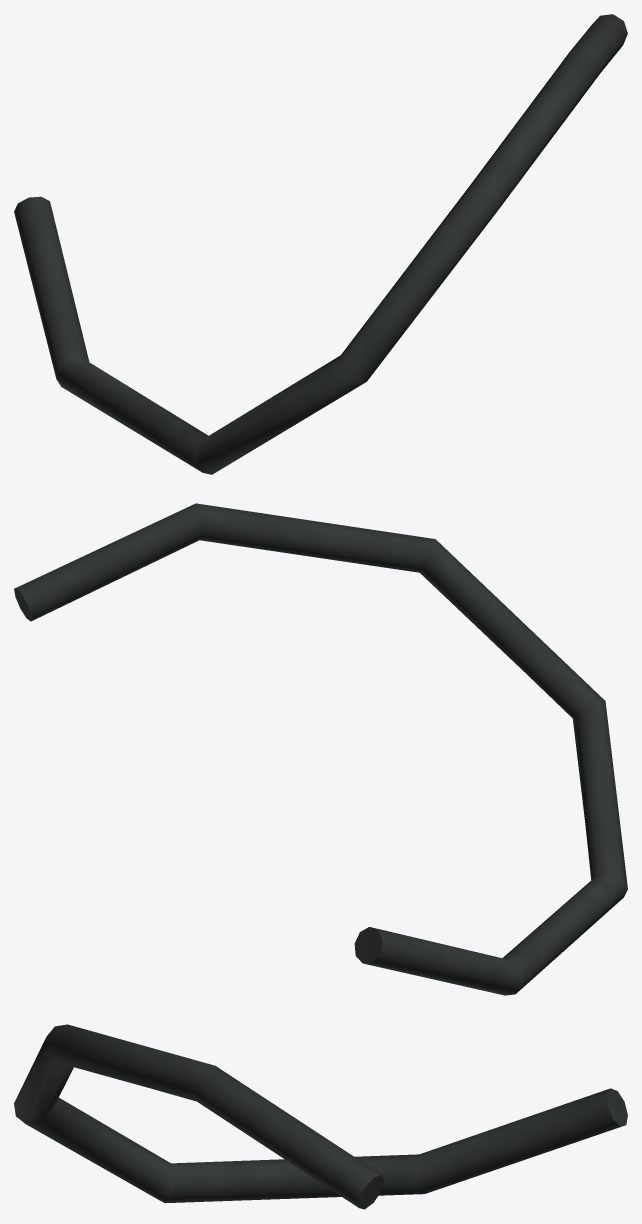
The model's file is flex_tool_tether.fbx.
3 views of the same model, one above another, from view 1: azimuth 30°, elevation 25°; view 2: azimuth 150°, elevation 25°; view 3: azimuth 270°, elevation 25° (orthographic). The views are drawn at different scales.
Parts seen in each view (by area): view 1: SM_flex_tool_tether; view 2: SM_flex_tool_tether; view 3: SM_flex_tool_tether.
Boxes of the visible parts, bbox=[...] form: SM_flex_tool_tether: bbox=[14, 14, 627, 474]; SM_flex_tool_tether: bbox=[14, 503, 627, 995]; SM_flex_tool_tether: bbox=[14, 1024, 627, 1209].
Size of the model in its own units: 0.0656 by 0.0369 by 0.0599.
1 material, 1 textured.
